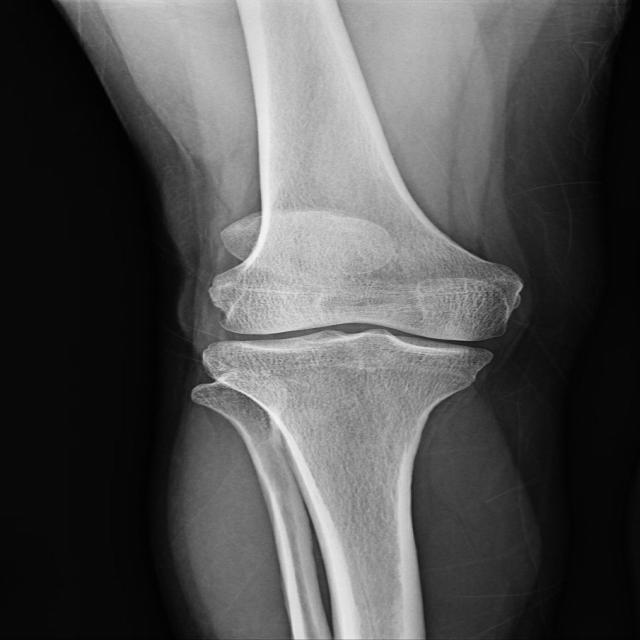normal: (192, 259, 516, 379)
